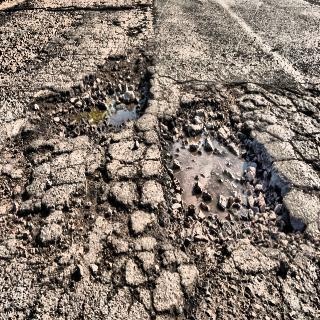pothole: (159, 82, 310, 255), (38, 46, 154, 138), (62, 156, 134, 259), (3, 138, 50, 269)
